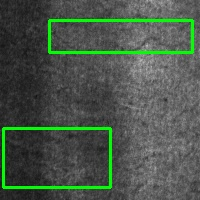crazing: (3, 128, 110, 187), (49, 20, 192, 52)
